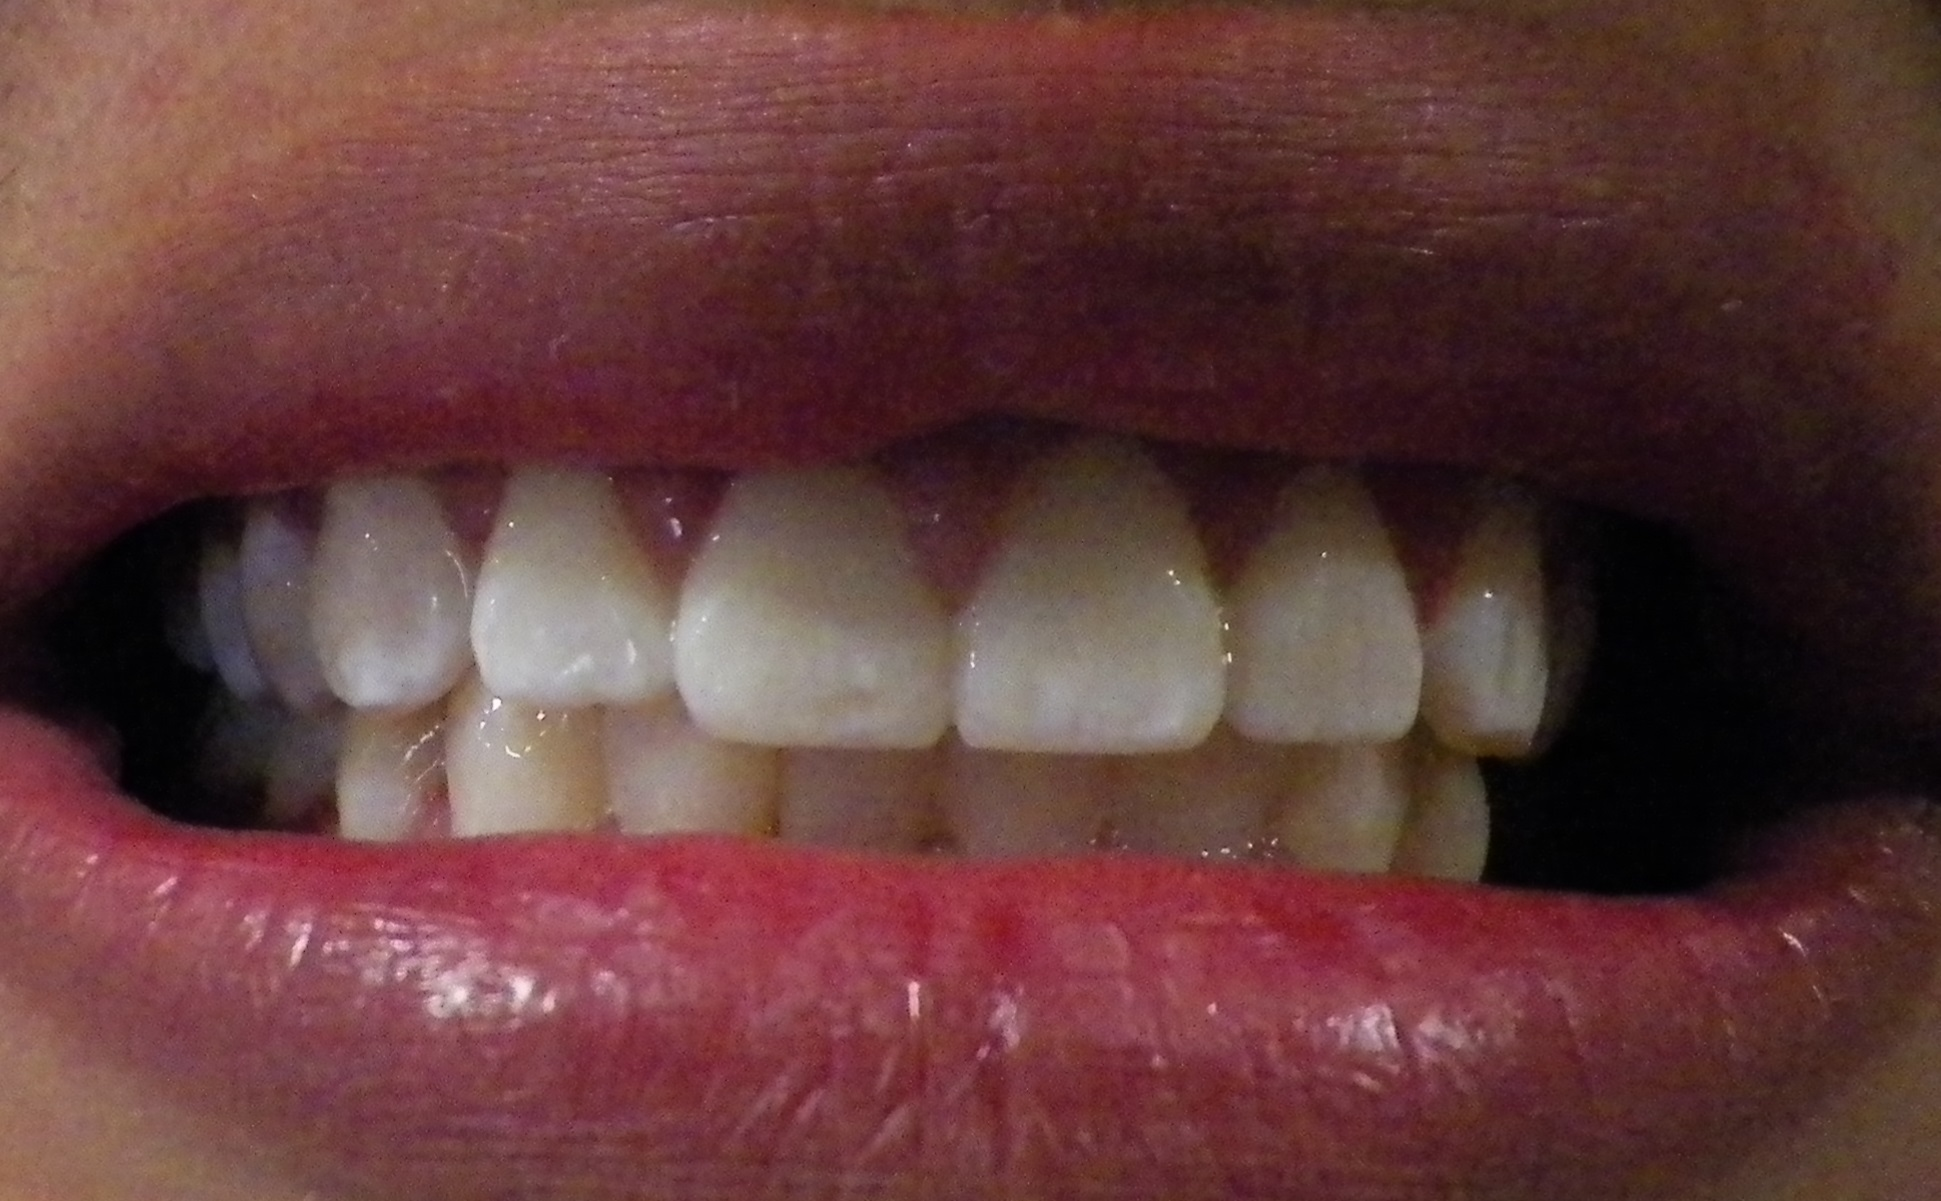boca: (141, 460, 1568, 883)
